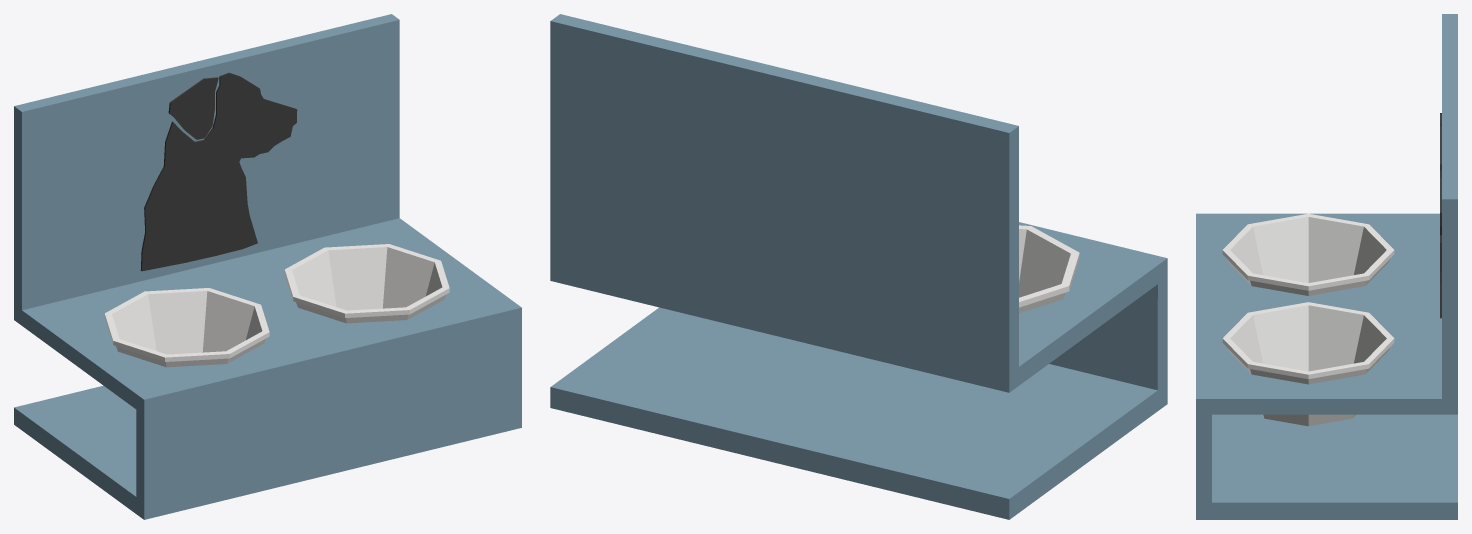
Rendered from food_stand_1.fbx.
3 views of the same model, side by side, from view 1: azimuth 30°, elevation 25°; view 2: azimuth 150°, elevation 25°; view 3: azimuth 270°, elevation 25° (orthographic). The views are drawn at different scales.
Parts seen in each view (by area): view 1: food_stand_1; view 2: food_stand_1; view 3: food_stand_1.
Boxes of the visible parts, x1,y1,x2,y2 form: food_stand_1: (14, 14, 521, 519); food_stand_1: (550, 14, 1167, 519); food_stand_1: (1196, 14, 1457, 519).
Bounding box in the file's own units: 57.02 × 34.03 × 45.94.
